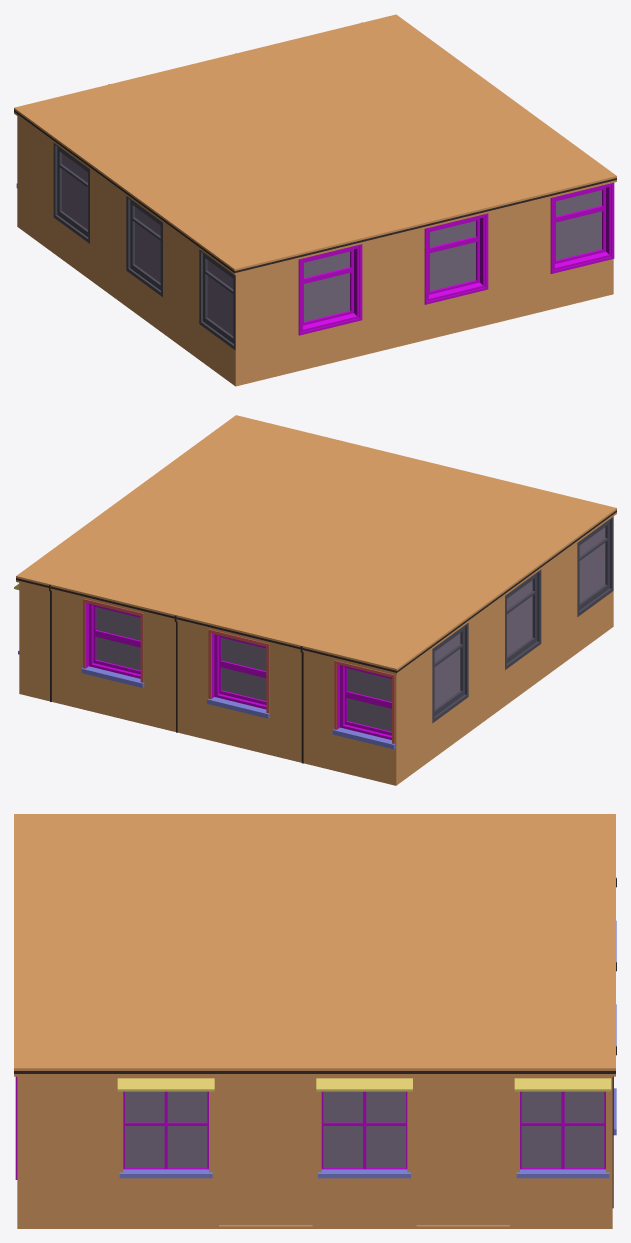
The model's file is BuildingBlock_1_1.fbx.
The picture shows the model from 3 angles, top to bottom: view 1: azimuth 30°, elevation 25°; view 2: azimuth 150°, elevation 25°; view 3: azimuth 270°, elevation 25°; orthographic projection. The views are drawn at different scales.
Visible parts, largest first — view 1: BuildingBlock_1_1; view 2: BuildingBlock_1_1; view 3: BuildingBlock_1_1.
Part boxes in pixels (x1,y1,x2,y2): BuildingBlock_1_1: (14,14,616,386); BuildingBlock_1_1: (14,415,616,785); BuildingBlock_1_1: (14,814,616,1228).
Bounding box in the file's own units: 1021 × 300 × 1013.
